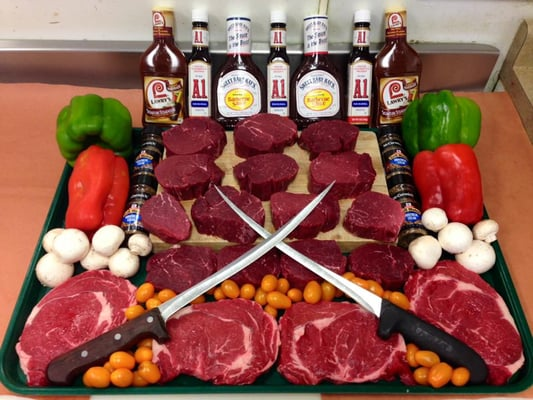salad: (44, 182, 342, 386)
